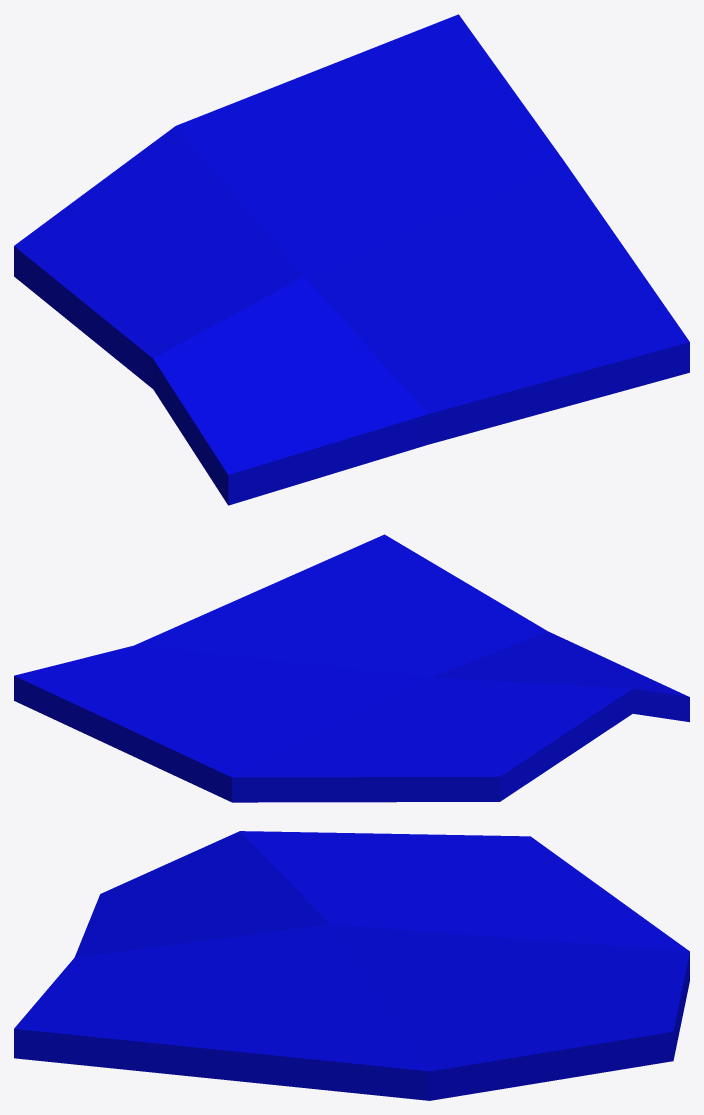
File: komono26.fbx
The picture shows the model from 3 angles, top to bottom: view 1: azimuth 30°, elevation 25°; view 2: azimuth 150°, elevation 25°; view 3: azimuth 270°, elevation 25°; orthographic projection. The views are drawn at different scales.
Visible parts, largest first — view 1: Cube.003; view 2: Cube.003; view 3: Cube.003.
Boxes of the visible parts, bbox=[...] form: Cube.003: bbox=[14, 14, 689, 505]; Cube.003: bbox=[14, 534, 689, 802]; Cube.003: bbox=[14, 831, 689, 1100].
Bounding box in the file's own units: 312 × 81.86 × 357.
